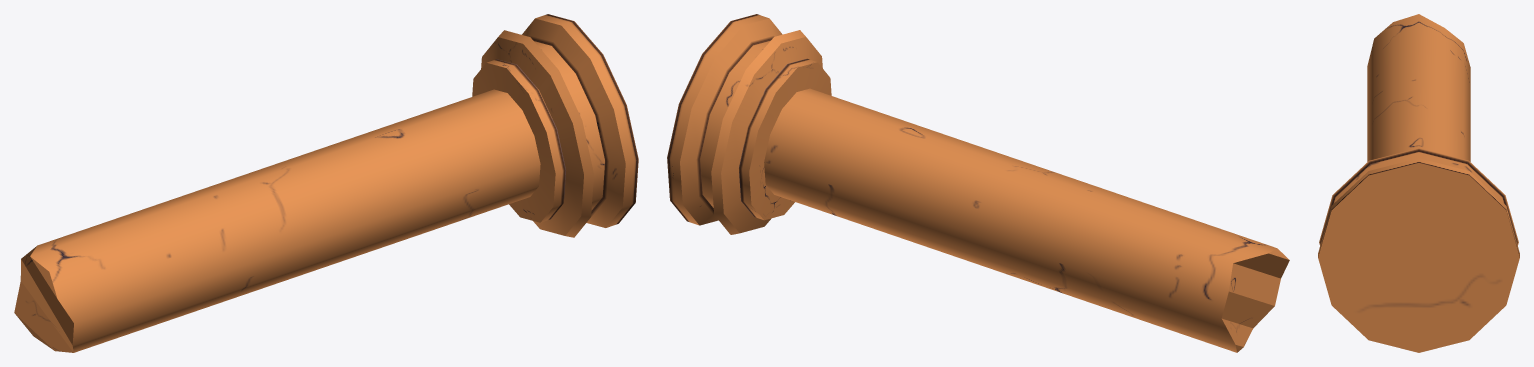
The model's file is BrokenPillar_Top1.fbx.
3 renders of one model, left to right at view 1: azimuth 30°, elevation 25°; view 2: azimuth 150°, elevation 25°; view 3: azimuth 270°, elevation 25°, orthographic. The views are drawn at different scales.
Visible parts, largest first — view 1: Broken_Top_1; view 2: Broken_Top_1; view 3: Broken_Top_1.
Part boxes in pixels (x1,y1,x2,y2): Broken_Top_1: [14, 14, 638, 352]; Broken_Top_1: [667, 14, 1289, 352]; Broken_Top_1: [1318, 14, 1519, 352].
Bounding box in the file's own units: 1144 × 390 × 395.
